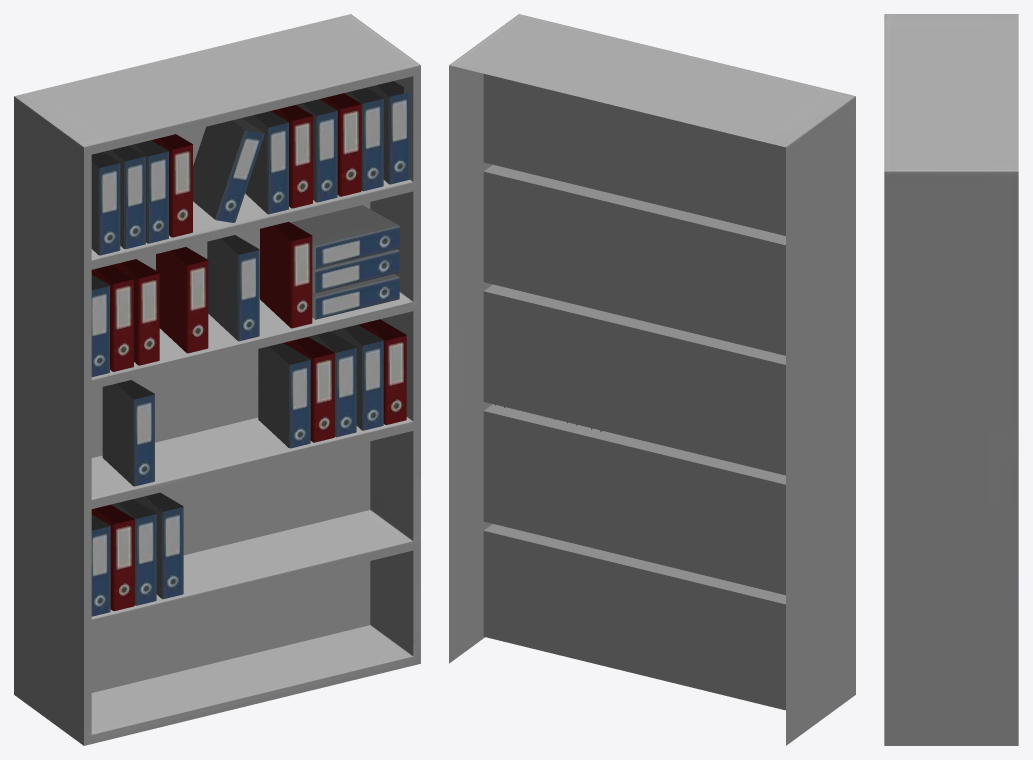
Rendered from bookcase_wide.glb.
The picture shows the model from 3 angles, left to right: view 1: azimuth 30°, elevation 25°; view 2: azimuth 150°, elevation 25°; view 3: azimuth 270°, elevation 25°; orthographic projection. The views are drawn at different scales.
Parts seen in each view (by area): view 1: shelf.001_details_0; view 2: shelf.001_details_0; view 3: shelf.001_details_0.
Boxes of the visible parts, x1,y1,x2,y2 form: shelf.001_details_0: (14, 14, 420, 745); shelf.001_details_0: (449, 14, 855, 745); shelf.001_details_0: (884, 14, 1018, 745).
Size of the model in its own units: 1.18 by 2.01 by 0.4256.
1 material, 1 textured.
